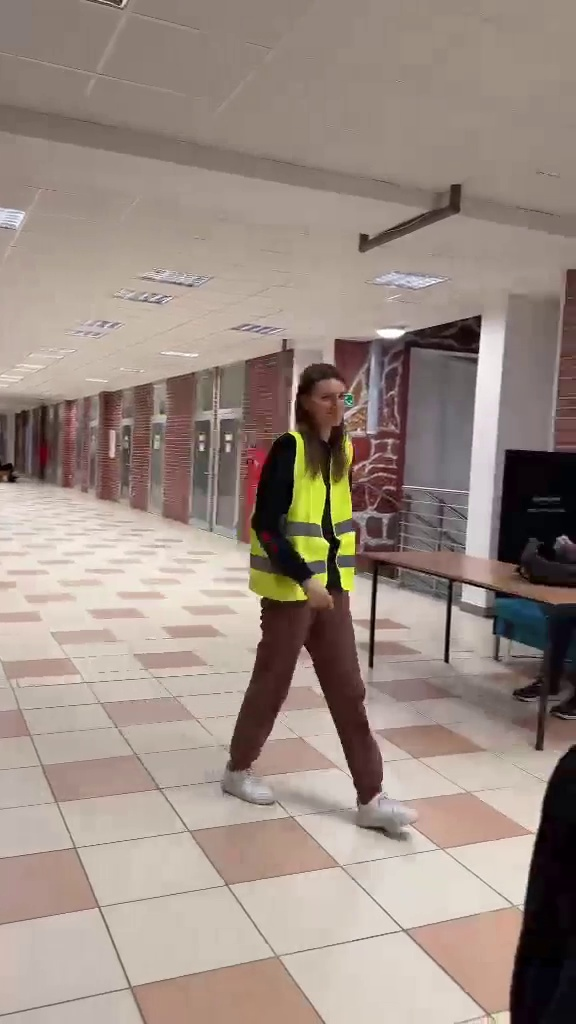vest: (225, 362, 414, 833)
